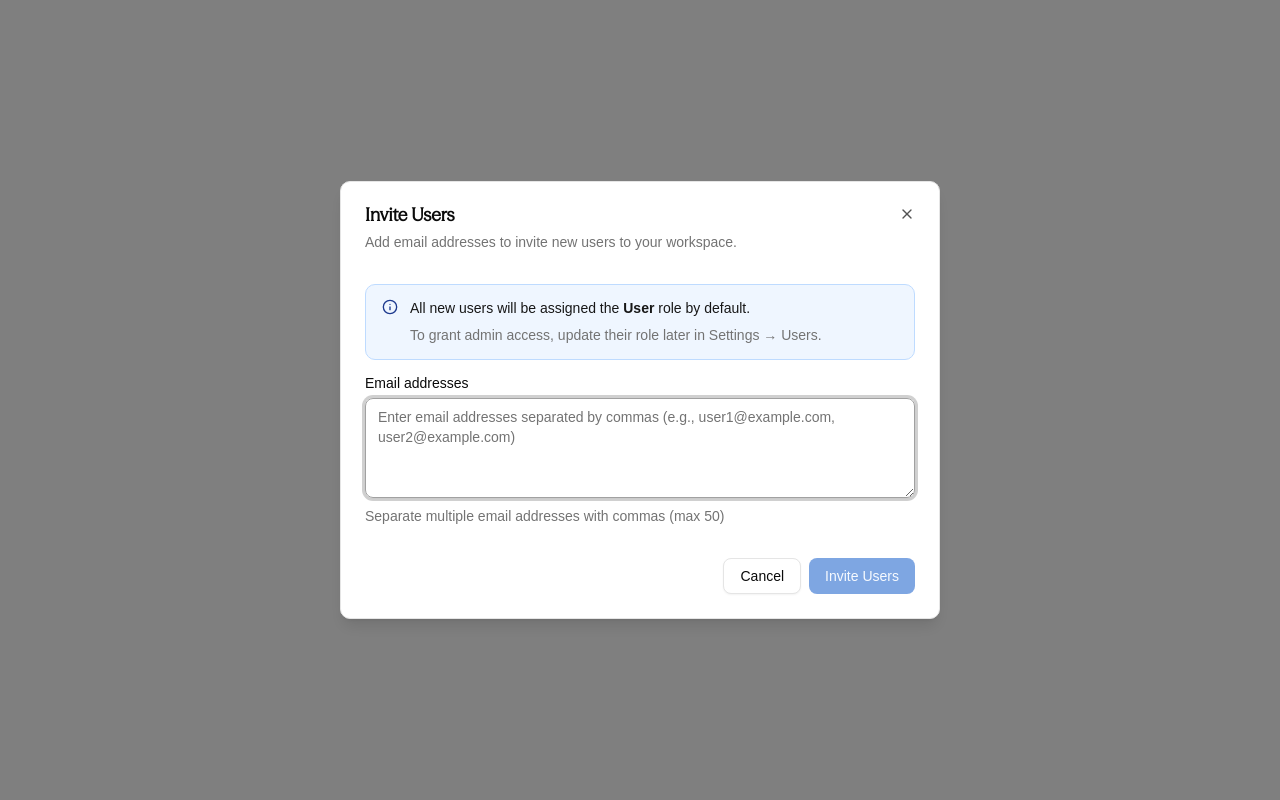
InviteUsersDialog › Email Input Validation › should enable Invite button when valid email is entered
This screenshot has width=1280, height=800.
Type "user@example.com" into the text box labelled "Email addresses" at (640,448), box x1=365 y1=398 x2=915 y2=498
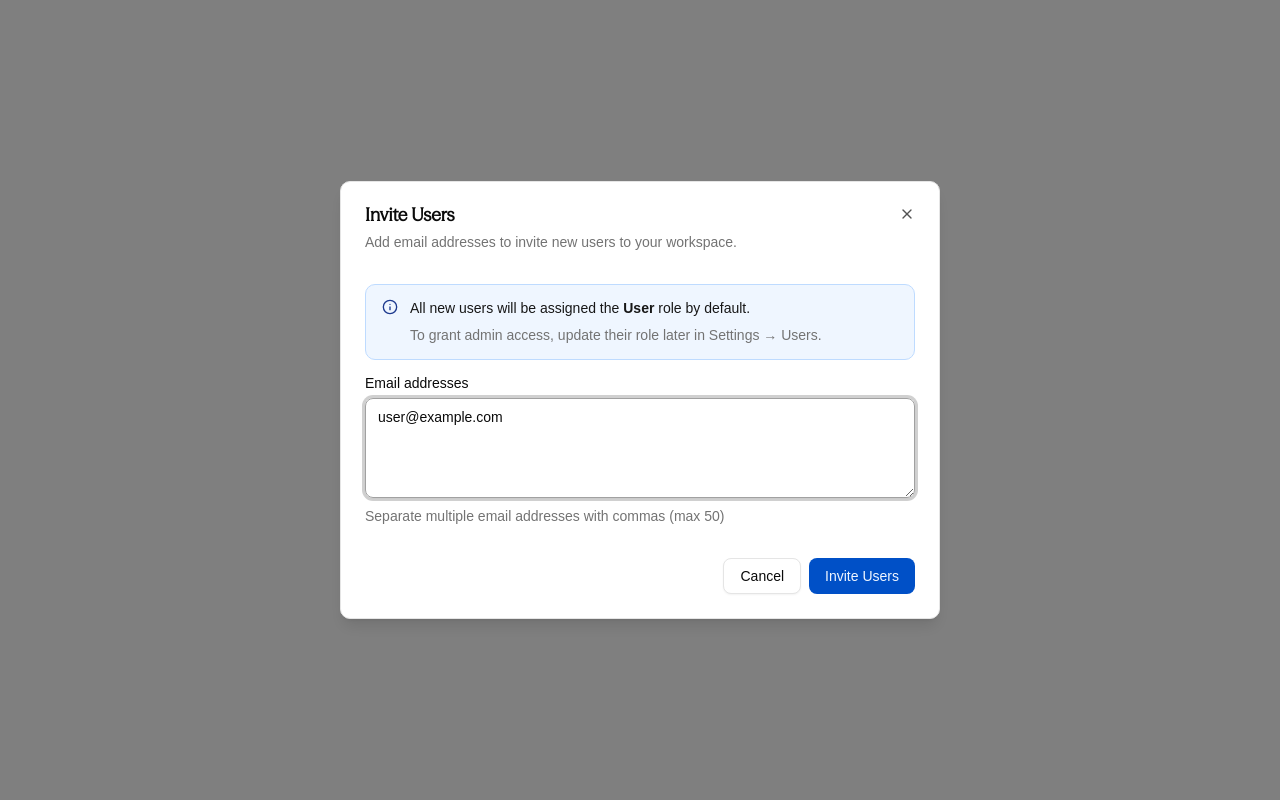
Expected: the button "Invite Users" is enabled, x1=809 y1=558 x2=915 y2=594
